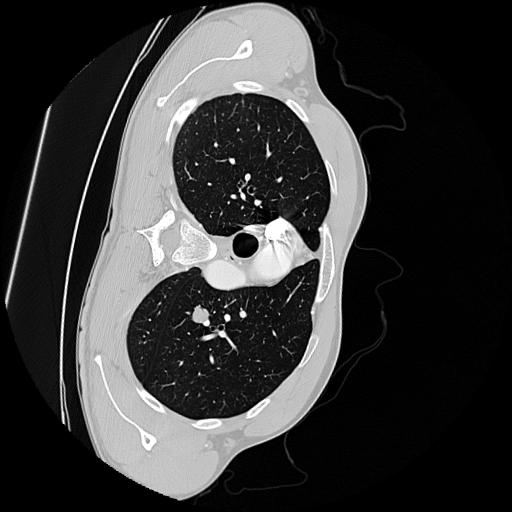nodule: (188, 303, 213, 328)
